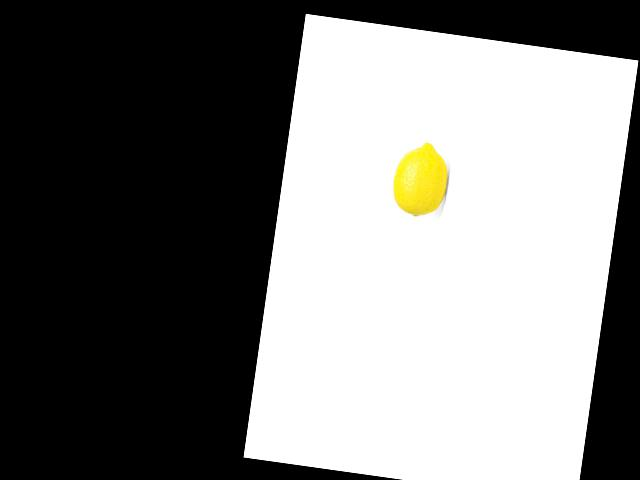lemon: (390, 136, 452, 223)
